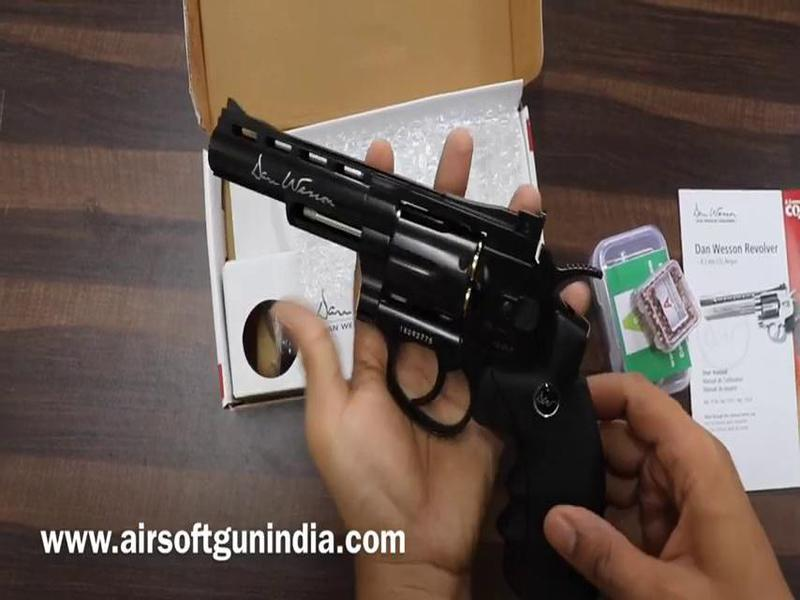Revolver: (202, 78, 633, 531)
